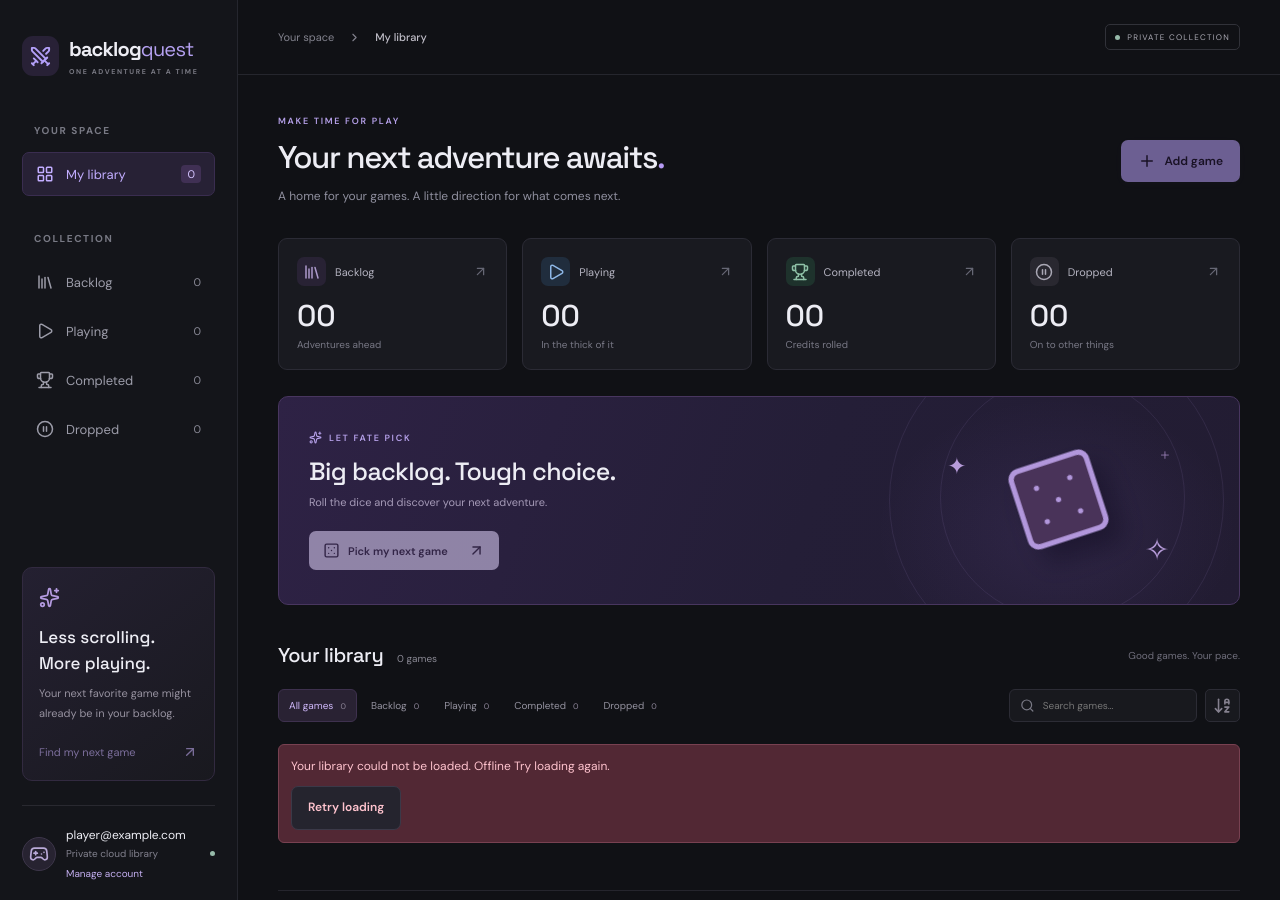
Test case: sessions and private collections › offers retry after a failed cloud load
Expected: the text "Your library could not be loaded. Offline Try loading again. Retry loading" is shown, [278,744,1240,843]
Click the button "Retry loading": (346, 808) [291,786,401,830]
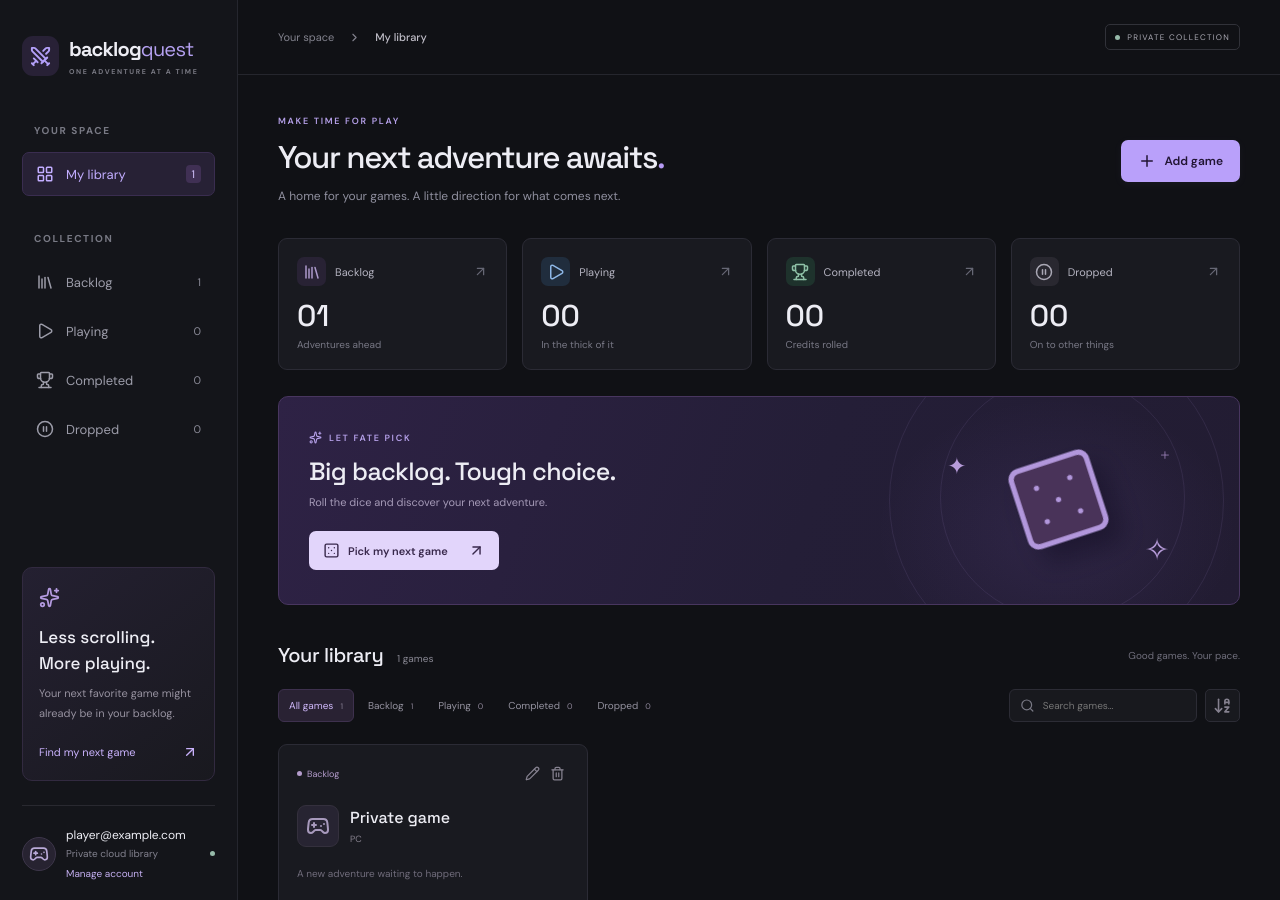
Now the button "Private game" is shown, box [350,807,450,828]
